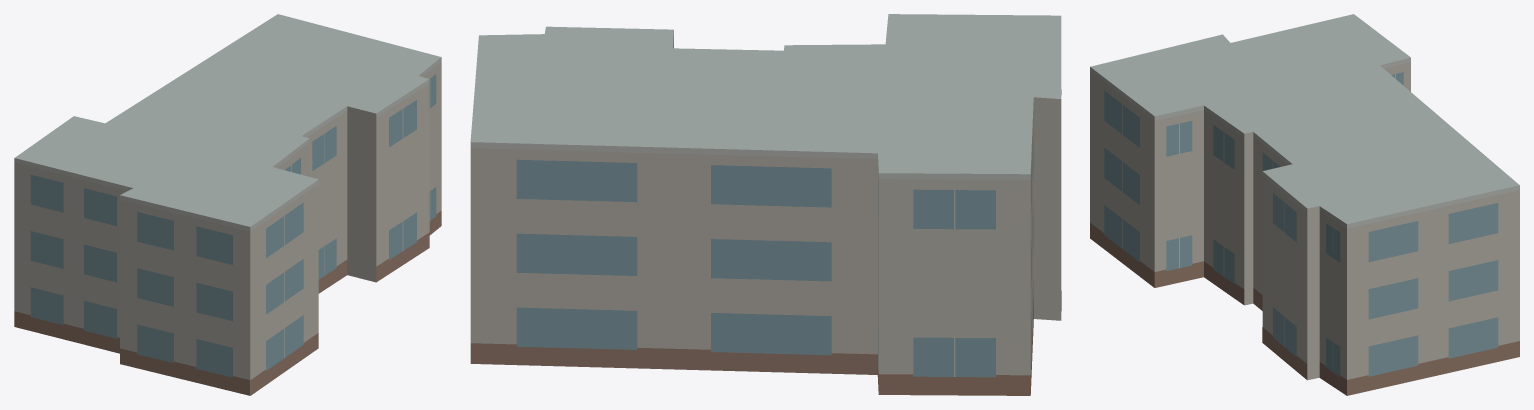
The model's file is survey-upis-32583587.glb.
3 views of the same model, side by side, from view 1: azimuth 30°, elevation 25°; view 2: azimuth 150°, elevation 25°; view 3: azimuth 270°, elevation 25° (orthographic). The views are drawn at different scales.
Visible parts, largest first — view 1: survey-upis-32583587.tmp; view 2: survey-upis-32583587.tmp; view 3: survey-upis-32583587.tmp.
Boxes of the visible parts, box(x1,y1,x2,y2) form: survey-upis-32583587.tmp: box(14, 14, 441, 395); survey-upis-32583587.tmp: box(470, 14, 1061, 395); survey-upis-32583587.tmp: box(1090, 14, 1519, 395).
Bounding box in the file's own units: 24.03 × 9.15 × 20.76.
